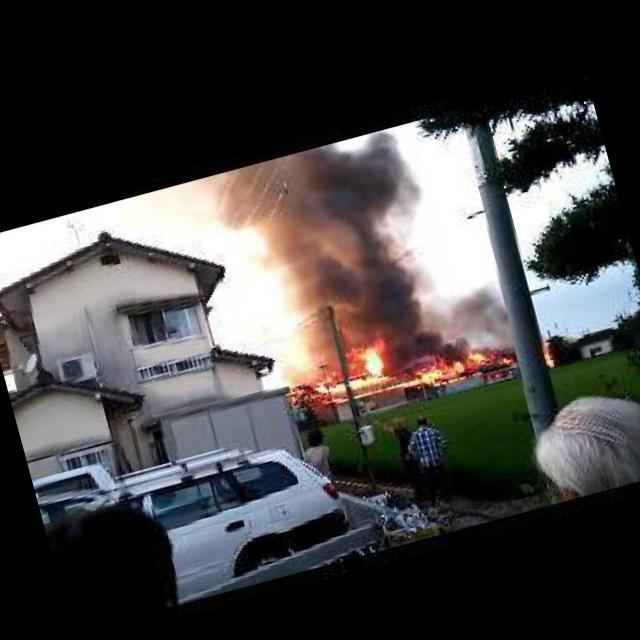fire: (328, 354, 492, 412), (282, 345, 390, 406), (542, 346, 556, 366), (502, 353, 518, 365)
smoke: (209, 119, 477, 378)
